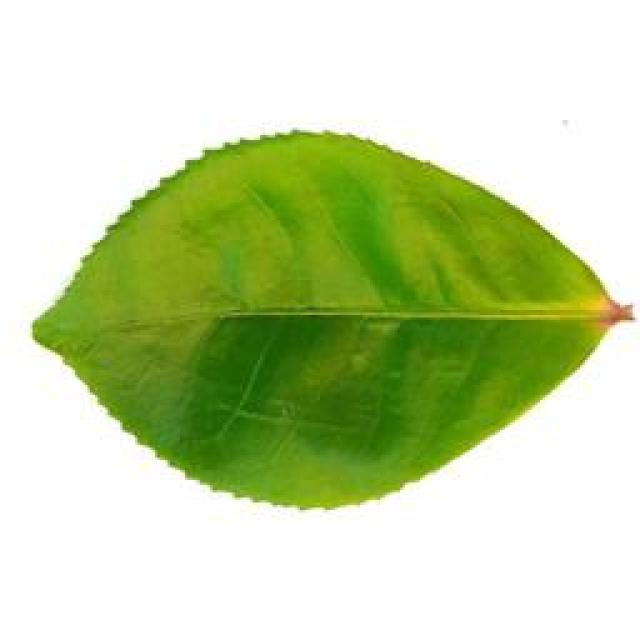Healthy: (21, 124, 636, 512)
